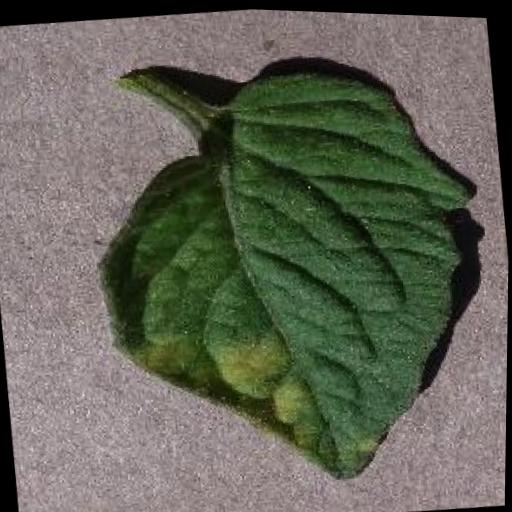Leaf Mold: (78, 46, 501, 505)
